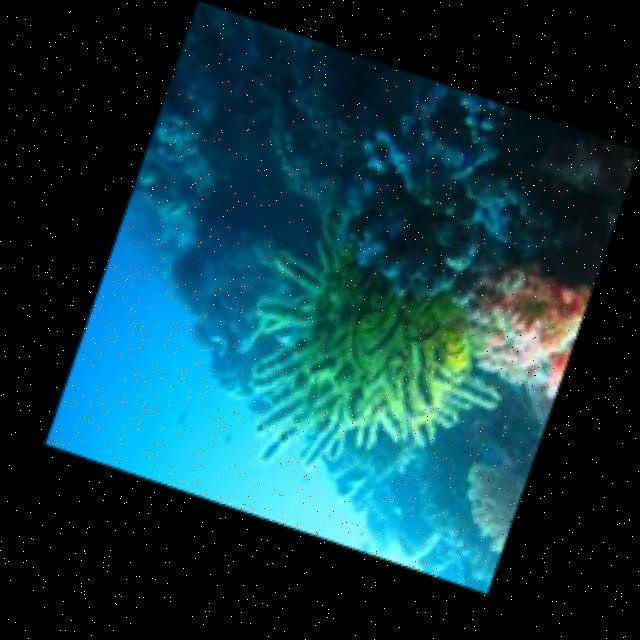Healthy Coral: (179, 175, 512, 516), (494, 251, 588, 371)
